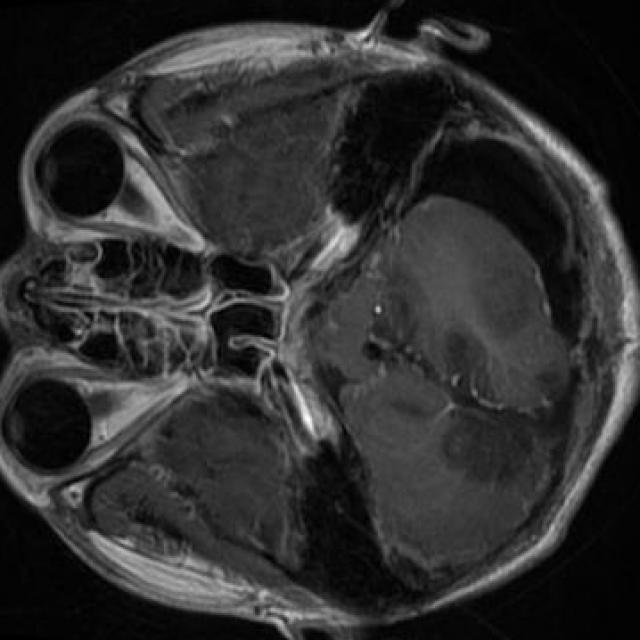glioma: (444, 332, 579, 483)
